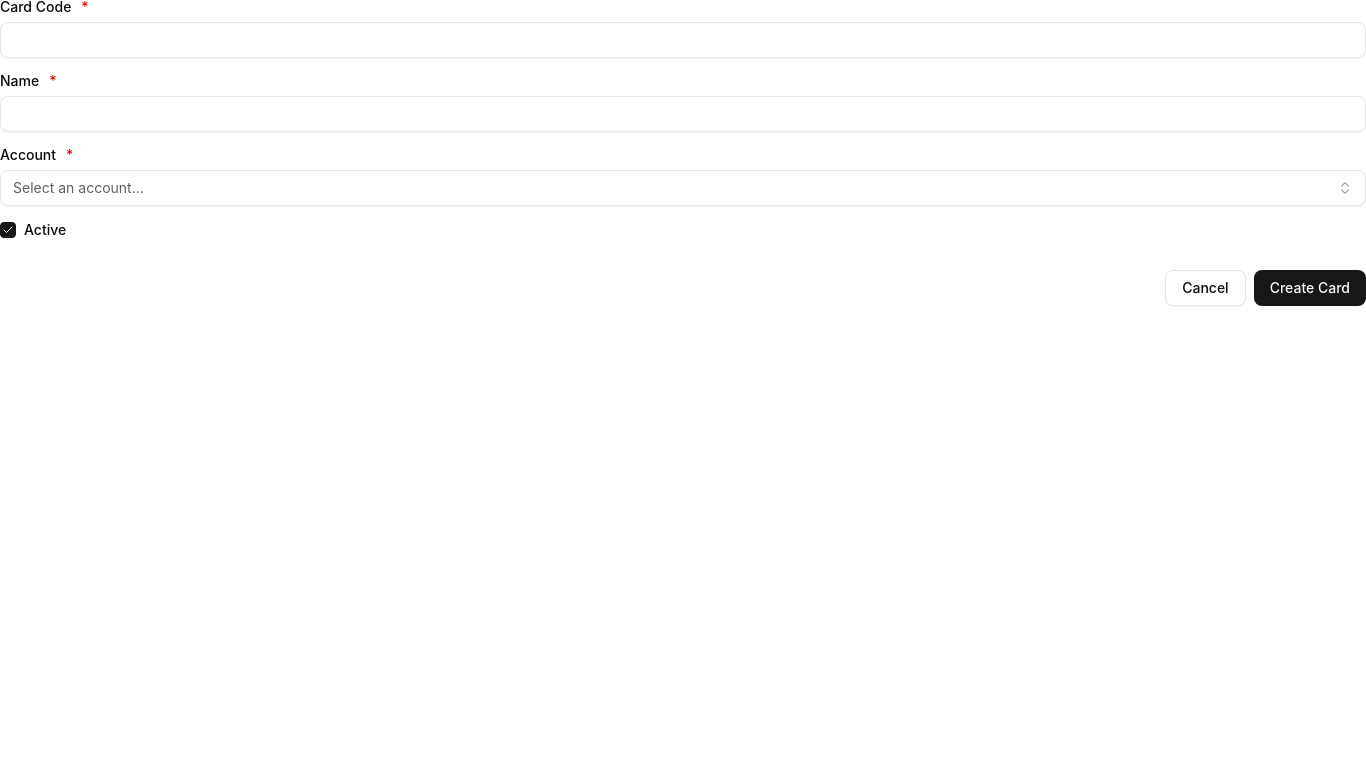
Scenario: CardForm › renders parent Account dropdown with active accounts only (no '— None —')
Click the dropdown labelled "Select an account..." at (78, 188), box [0,170,1365,206]
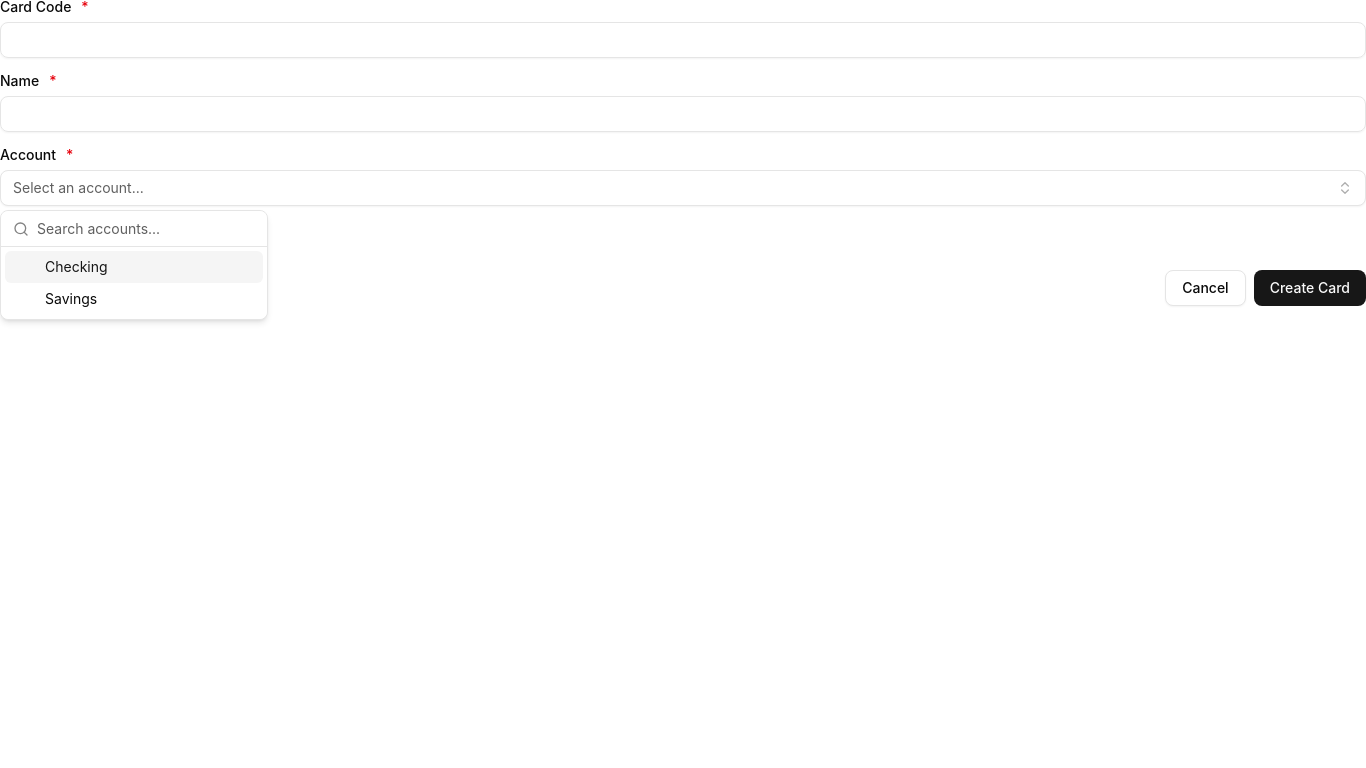
Expected: the text "Checking" is shown, [45,257,108,277]
Expected: the text "Savings" is shown, [45,289,97,309]
